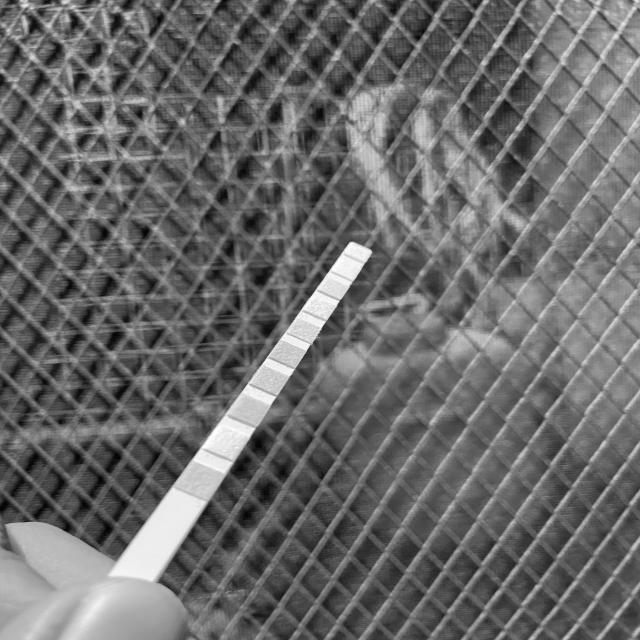Bilirubin: (211, 434, 242, 452)
Blood: (274, 346, 298, 361)
Glucose: (185, 470, 216, 490)
Ketone: (236, 402, 263, 417)
Leukocytes: (351, 248, 365, 255)
Nitrite: (339, 262, 356, 273)
Protein: (308, 302, 329, 312)
SpGravity: (256, 372, 284, 387)
Urobilinogen: (324, 284, 342, 291)
background: (0, 0, 640, 640)
pH: (292, 326, 316, 335)
strip: (108, 242, 372, 582)
